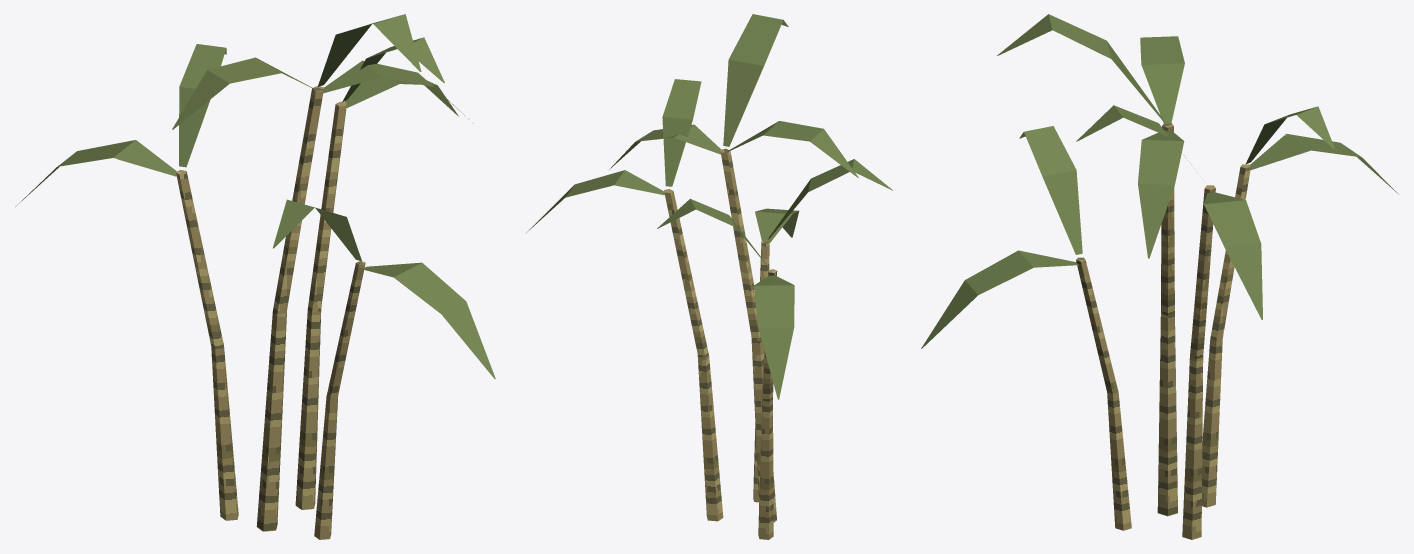
Rendered from areca-mid.glb.
3 renders of one model, left to right at view 1: azimuth 30°, elevation 25°; view 2: azimuth 150°, elevation 25°; view 3: azimuth 270°, elevation 25°, orthographic. The views are drawn at different scales.
Parts seen in each view (by area): view 1: trunk_areca-mid, crown_areca-mid; view 2: crown_areca-mid, trunk_areca-mid; view 3: crown_areca-mid, trunk_areca-mid.
Part boxes in pixels (x1=…): trunk_areca-mid: x1=176, y1=86, x2=365, y2=539; crown_areca-mid: x1=15, y1=14, x2=495, y2=378; crown_areca-mid: x1=526, y1=14, x2=892, y2=399; trunk_areca-mid: x1=664, y1=148, x2=777, y2=539; crown_areca-mid: x1=921, y1=14, x2=1398, y2=348; trunk_areca-mid: x1=1076, y1=123, x2=1250, y2=539.
Bounding box in the file's own units: 4.49 × 6.19 × 5.18.
Materials: 2 (2 with a texture image).
